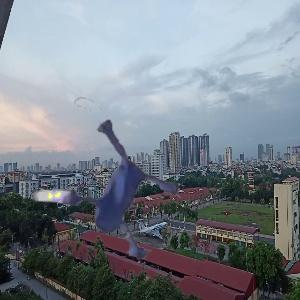drone: (2, 90, 202, 290)
